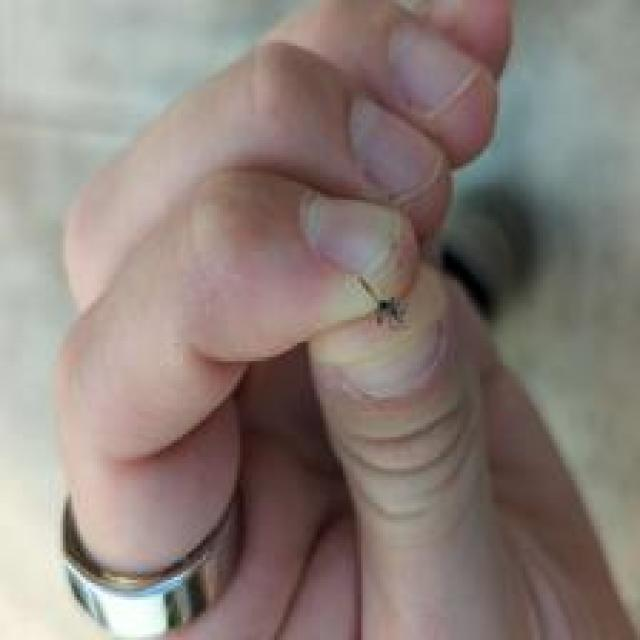Aedes albopictus: (356, 273, 410, 330)
